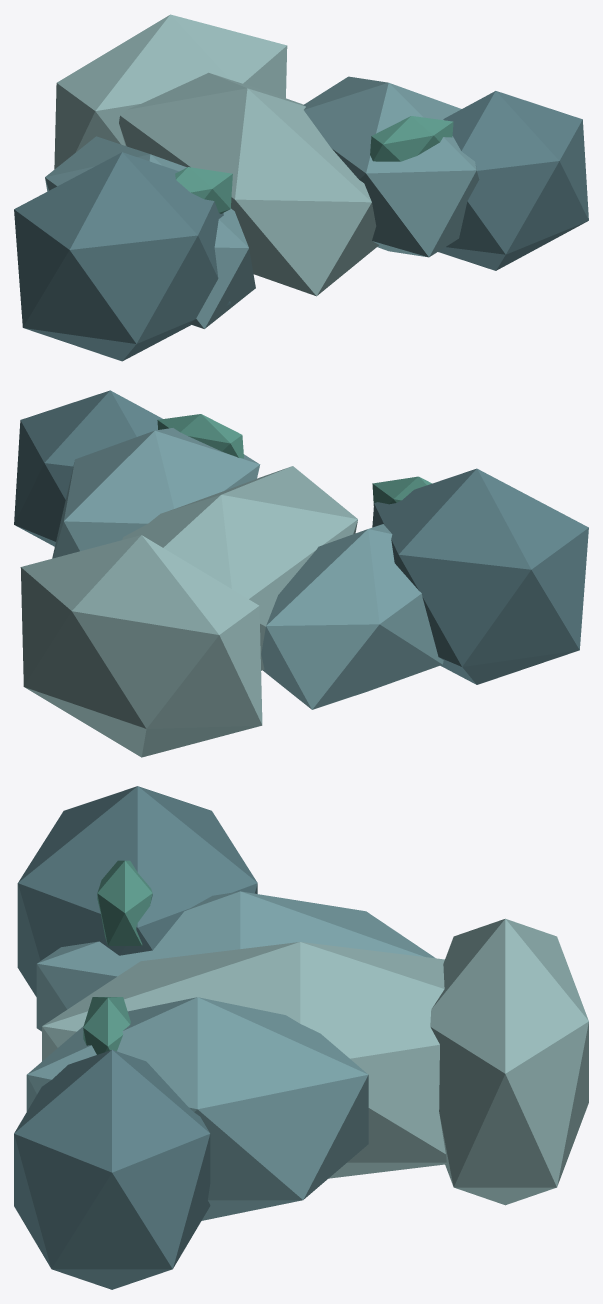
Rendered from wavebreak_reef_refined.glb.
The picture shows the model from 3 angles, top to bottom: view 1: azimuth 30°, elevation 25°; view 2: azimuth 150°, elevation 25°; view 3: azimuth 270°, elevation 25°; orthographic projection. The views are drawn at different scales.
Visible parts, largest first — view 1: ReefBaseL, ReefPillarC, ReefBaseR, ReefPillarR, ReefCap, ReefPillarL, ReefMossR, ReefMossL; view 2: ReefCap, ReefBaseL, ReefPillarL, ReefPillarC, ReefPillarR, ReefBaseR, ReefMossR, ReefMossL; view 3: ReefCap, ReefBaseR, ReefPillarR, ReefPillarC, ReefBaseL, ReefPillarL, ReefMossL, ReefMossR.
Part boxes in pixels (x1=…): ReefBaseL: x1=14, y1=152, x2=230, y2=361; ReefPillarC: x1=119, y1=72, x2=378, y2=296; ReefBaseR: x1=438, y1=91, x2=588, y2=270; ReefPillarR: x1=303, y1=76, x2=479, y2=257; ReefCap: x1=54, y1=14, x2=287, y2=169; ReefPillarL: x1=45, y1=136, x2=255, y2=328; ReefMossR: x1=370, y1=116, x2=453, y2=161; ReefMossL: x1=175, y1=167, x2=232, y2=213; ReefCap: x1=20, y1=535, x2=262, y2=757; ReefBaseL: x1=372, y1=468, x2=588, y2=684; ReefPillarL: x1=261, y1=524, x2=443, y2=709; ReefPillarC: x1=122, y1=466, x2=357, y2=670; ReefPillarR: x1=52, y1=428, x2=260, y2=558; ReefBaseR: x1=14, y1=390, x2=162, y2=546; ReefMossR: x1=157, y1=414, x2=243, y2=458; ReefMossL: x1=372, y1=476, x2=431, y2=505; ReefCap: x1=430, y1=918, x2=588, y2=1205; ReefBaseR: x1=14, y1=1050, x2=210, y2=1289; ReefPillarR: x1=26, y1=997, x2=368, y2=1220; ReefPillarC: x1=42, y1=942, x2=446, y2=1178; ReefBaseL: x1=17, y1=786, x2=257, y2=996; ReefPillarL: x1=36, y1=891, x2=435, y2=1031; ReefMossL: x1=97, y1=860, x2=152, y2=945; ReefMossR: x1=83, y1=997, x2=130, y2=1054.
Size of the model in its own units: 9.9 by 3.85 by 6.73.
